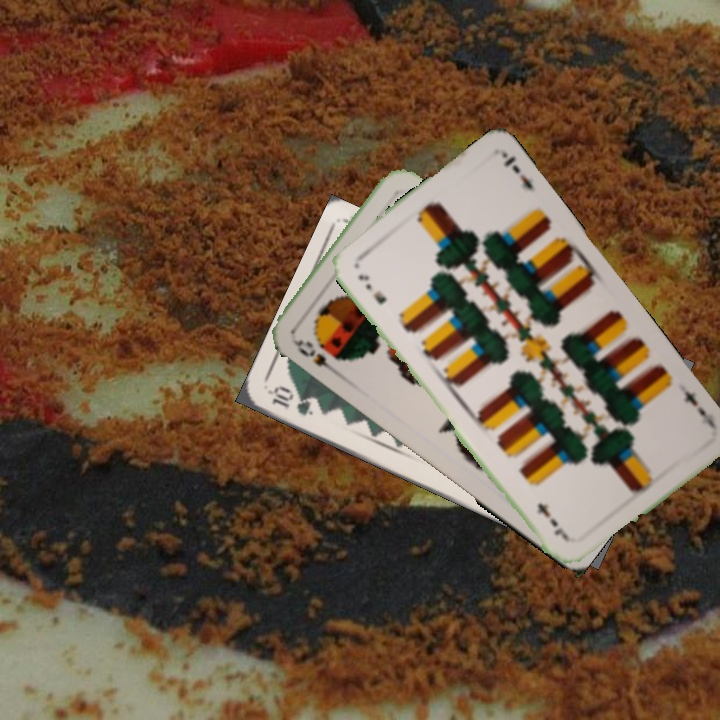E7: (354, 270, 389, 307), (679, 386, 710, 420)
G10: (266, 382, 316, 418)
SO: (289, 335, 340, 376)
